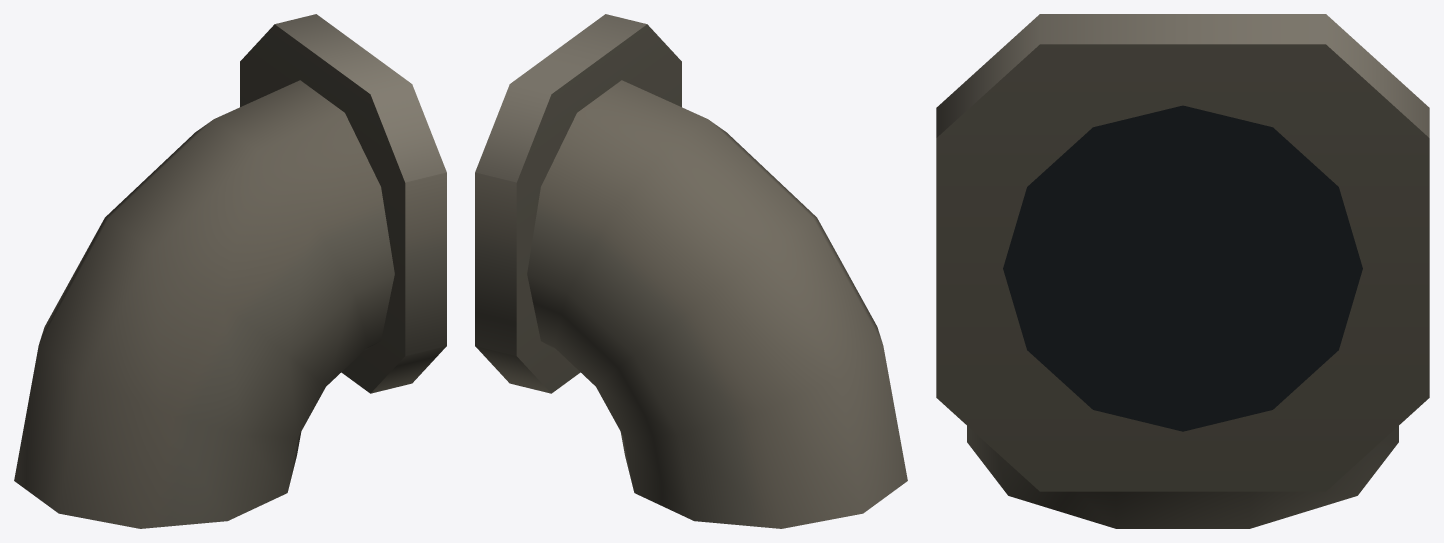
Rendered from Pipe_1B.fbx.
The picture shows the model from 3 angles, left to right: view 1: azimuth 30°, elevation 25°; view 2: azimuth 150°, elevation 25°; view 3: azimuth 270°, elevation 25°; orthographic projection. The views are drawn at different scales.
Parts seen in each view (by area): view 1: Pipe_1B; view 2: Pipe_1B; view 3: Pipe_1B.
Boxes of the visible parts, box(x1,y1,x2,y2) form: Pipe_1B: box(14, 14, 446, 528); Pipe_1B: box(475, 14, 907, 528); Pipe_1B: box(936, 14, 1429, 528).
Bounding box in the file's own units: 157 × 169 × 137.
